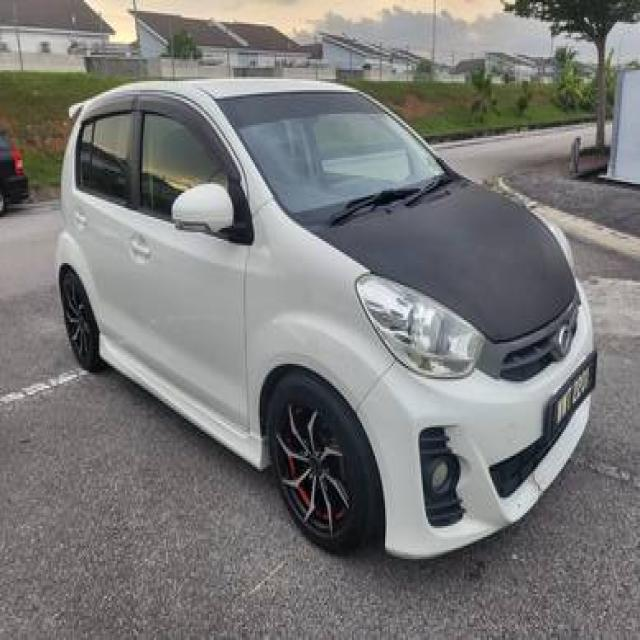PeroduaMyvi: (53, 72, 597, 561)
